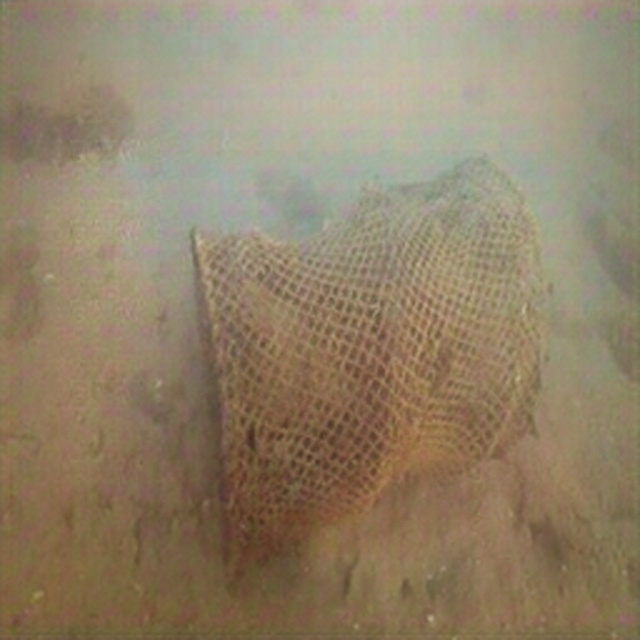mine: (189, 156, 547, 588)
